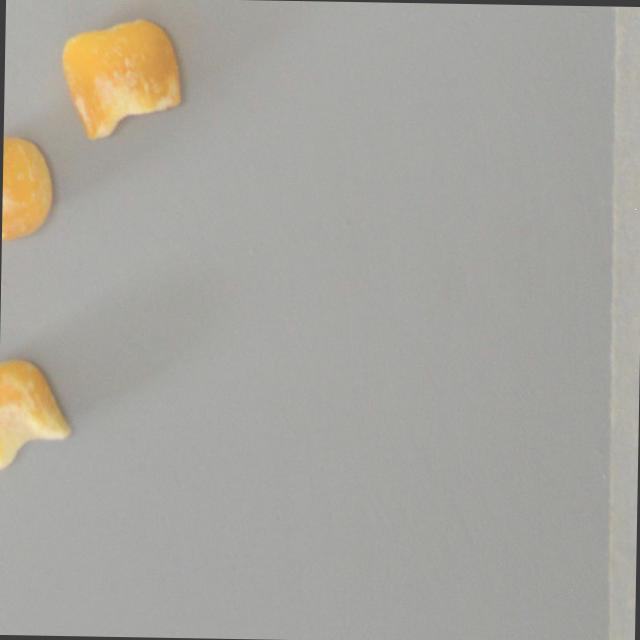dañado: (53, 11, 192, 143)
pelicula: (0, 349, 77, 472)
punto_negro: (1, 131, 59, 246)
